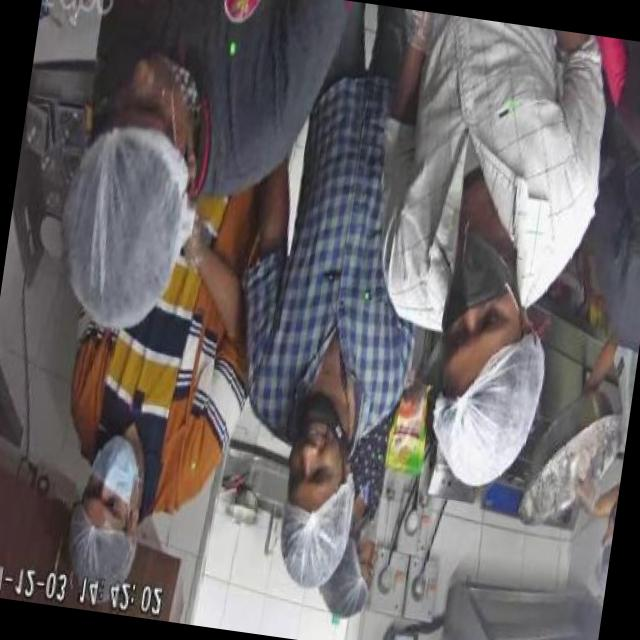hairnet: (60, 123, 192, 319), (430, 333, 548, 488), (269, 496, 344, 598), (60, 508, 143, 598), (328, 540, 373, 626)
